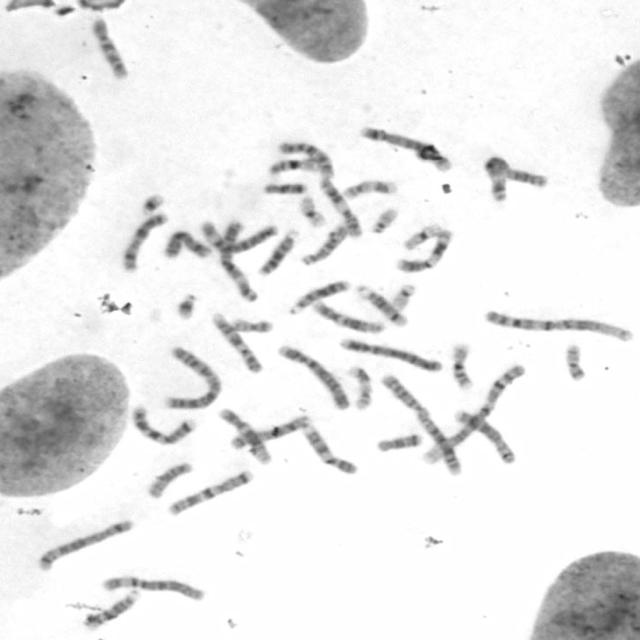A1: (419, 363, 527, 466), (481, 308, 636, 344)
A2: (378, 373, 464, 478), (160, 344, 222, 410)
A3: (481, 154, 551, 205), (218, 220, 260, 302)
B4: (276, 344, 352, 412), (338, 337, 444, 373)
B5: (37, 520, 135, 571), (359, 124, 454, 174)
C10: (90, 16, 132, 82), (277, 140, 338, 179)
C11: (317, 178, 363, 238), (395, 229, 453, 274)
C12: (216, 407, 274, 465), (311, 298, 388, 336)
C6: (102, 574, 208, 603), (199, 219, 279, 254)
C7: (165, 469, 255, 517), (132, 403, 199, 446)
C8: (454, 410, 516, 466), (229, 414, 315, 452)
C9: (208, 312, 266, 374), (302, 424, 360, 476)
D13: (288, 279, 352, 315), (259, 229, 298, 277)
D14: (82, 587, 142, 632), (354, 284, 409, 328)
D15: (301, 224, 350, 266), (147, 462, 192, 499)
E16: (448, 343, 477, 391), (268, 157, 323, 176)
E17: (342, 178, 399, 202), (346, 366, 376, 411)
E18: (375, 434, 423, 454), (262, 182, 310, 196)
F19: (402, 222, 443, 251), (298, 196, 328, 228)
F20: (561, 343, 588, 382), (230, 317, 274, 334)
G21: (174, 292, 199, 322), (140, 192, 165, 217)
G22: (390, 282, 418, 312), (371, 206, 401, 234)
X: (120, 211, 168, 272), (165, 229, 214, 261)
